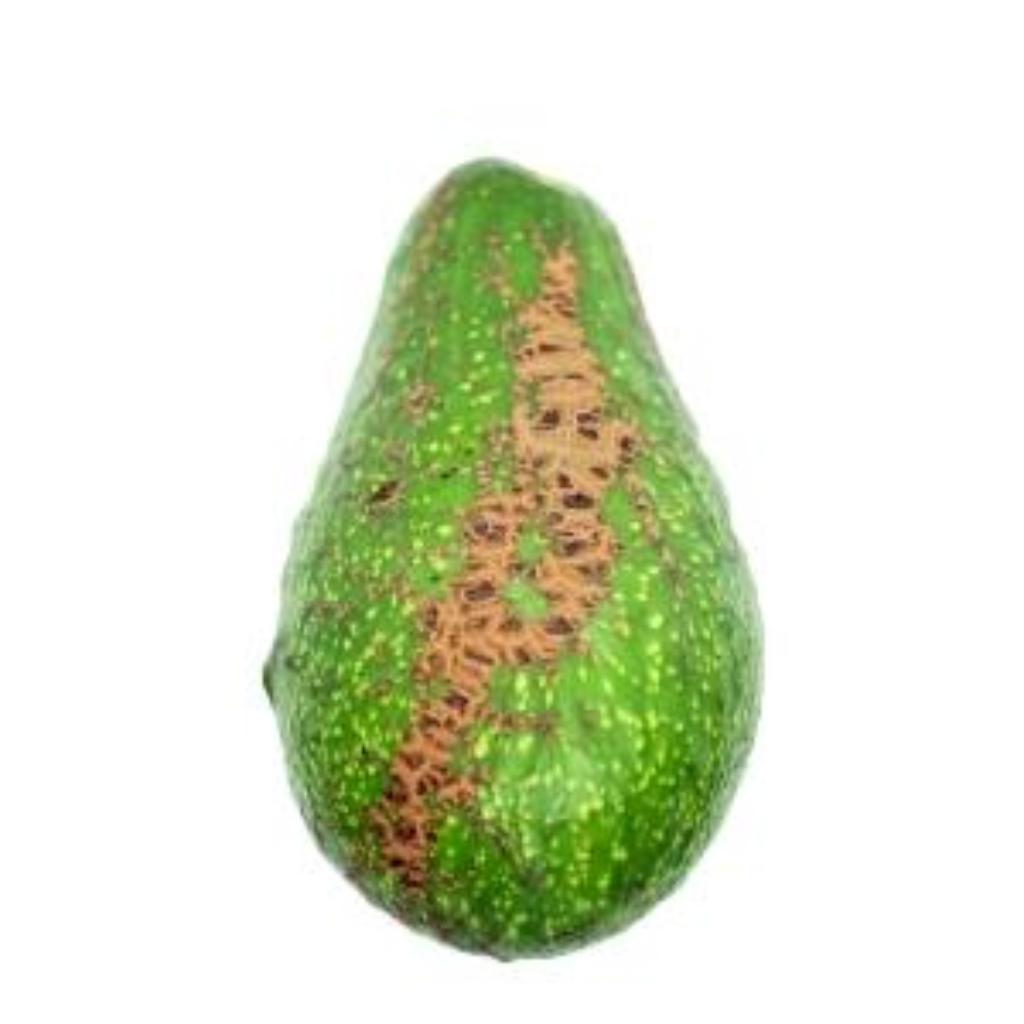cercospora_spot: (243, 156, 775, 964)
